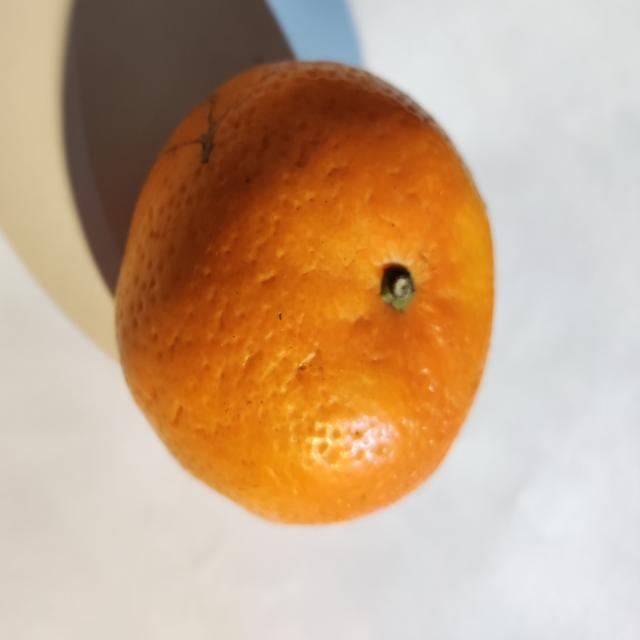orange: (117, 63, 493, 522)
